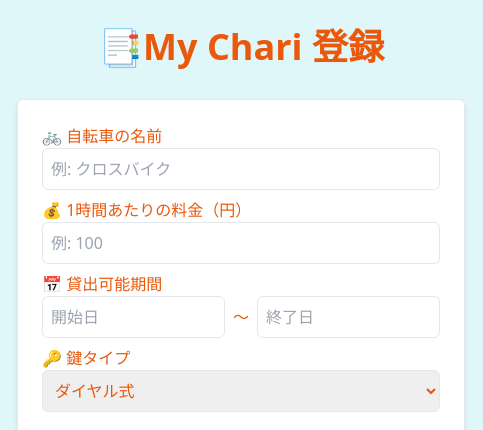
RegisterBikePage › 料金が100円未満の場合エラーが表示される
The image size is (483, 430).
Type "99" into the number field labelled "💰 1時間あたりの料金（円）" at (241, 243), box [42,222,440,264]
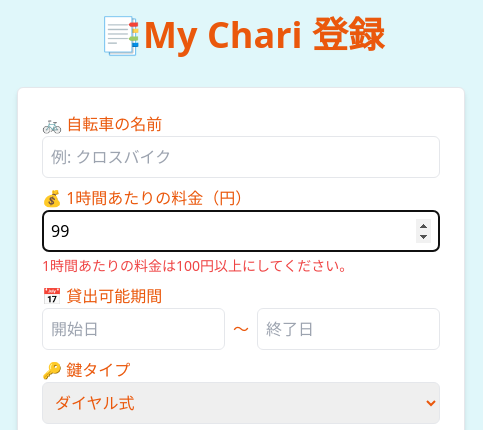
Check: the text "1時間あたりの料金は100円以上にしてください。" is shown, box [42,256,353,275]
